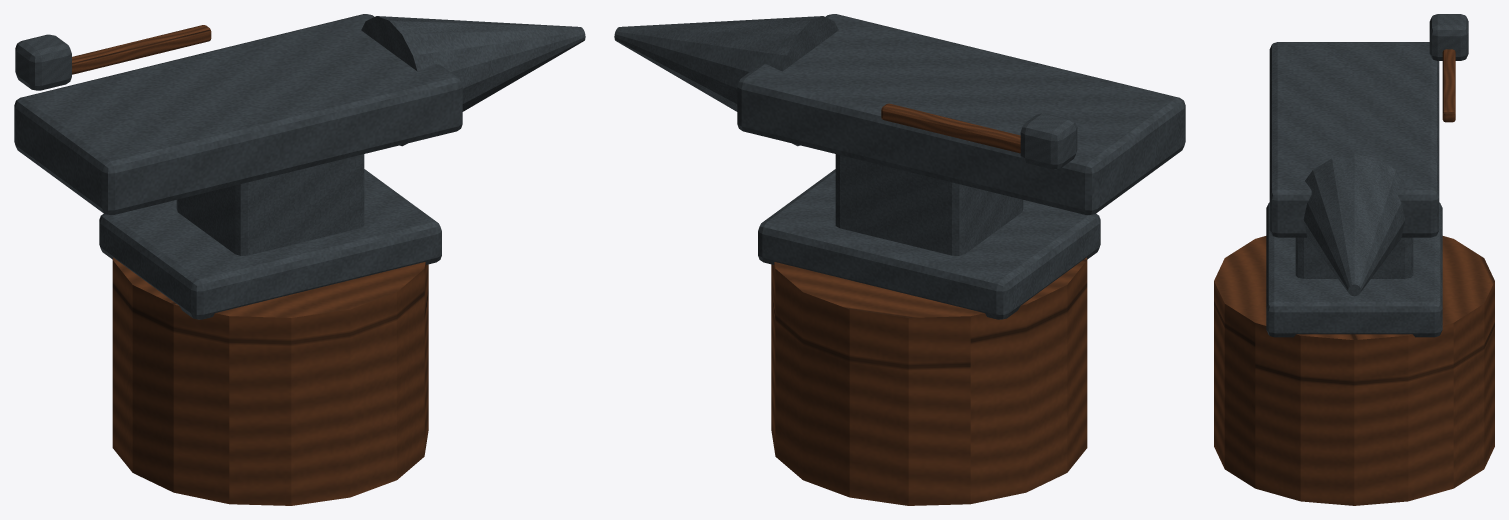
File: anvil.glb
3 views of the same model, side by side, from view 1: azimuth 30°, elevation 25°; view 2: azimuth 150°, elevation 25°; view 3: azimuth 270°, elevation 25° (orthographic). The views are drawn at different scales.
Visible parts, largest first — view 1: anvil_Iron, anvil_Walnut; view 2: anvil_Iron, anvil_Walnut; view 3: anvil_Walnut, anvil_Iron.
Part boxes in pixels (box(x1,y1,x2,y2)): anvil_Iron: box(14, 14, 585, 319); anvil_Walnut: box(72, 25, 428, 505); anvil_Iron: box(614, 14, 1185, 319); anvil_Walnut: box(771, 103, 1087, 505); anvil_Walnut: box(1214, 49, 1494, 505); anvil_Iron: box(1266, 14, 1468, 337).
Size of the model in its own units: 1.63 by 1.19 by 0.86.
2 materials, 2 textured.
